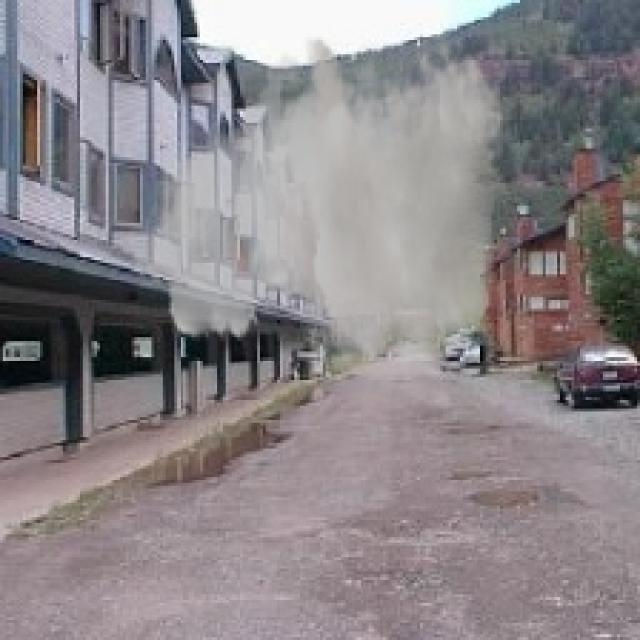Smoke: (120, 34, 506, 423)
